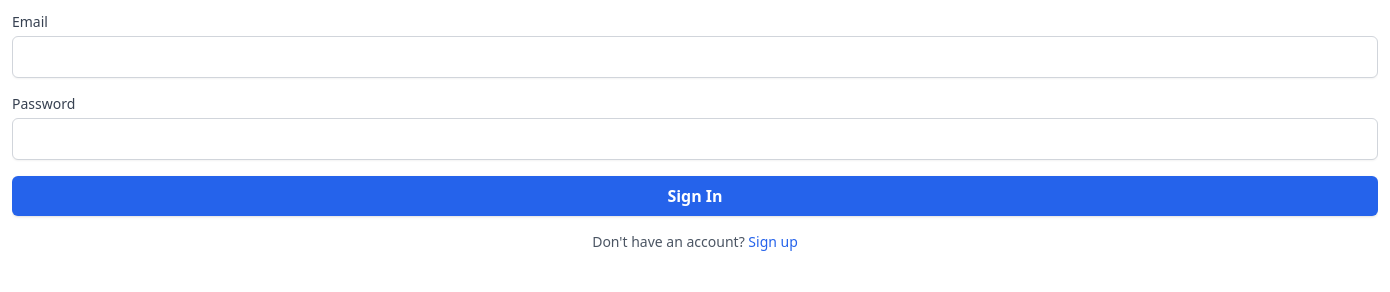
Test case: SignInForm › shows inline error when password is empty on submit
Type "user@example.com" into the field labelled "Email". click: (695, 57)
box: [12,36,1378,78]
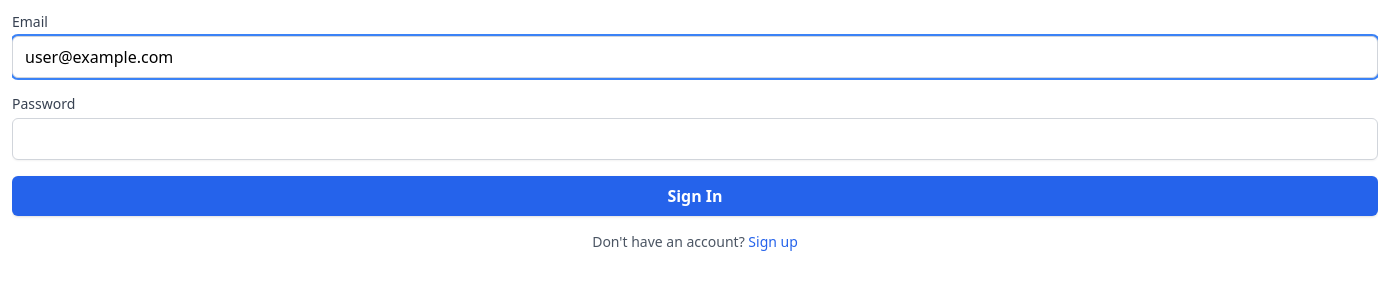
Click the button "Sign In". click: (695, 196)
box: [12,176,1378,216]
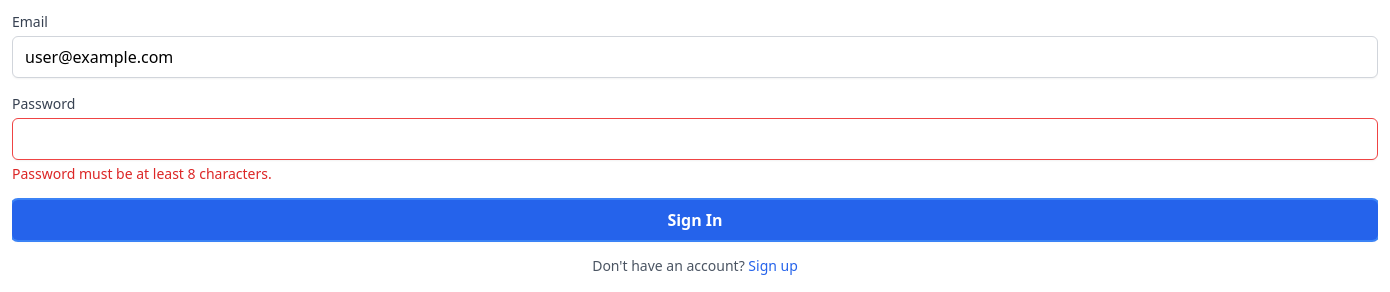
Expected: the text "Password must be at least 8 characters." is shown, [12,164,272,183]
